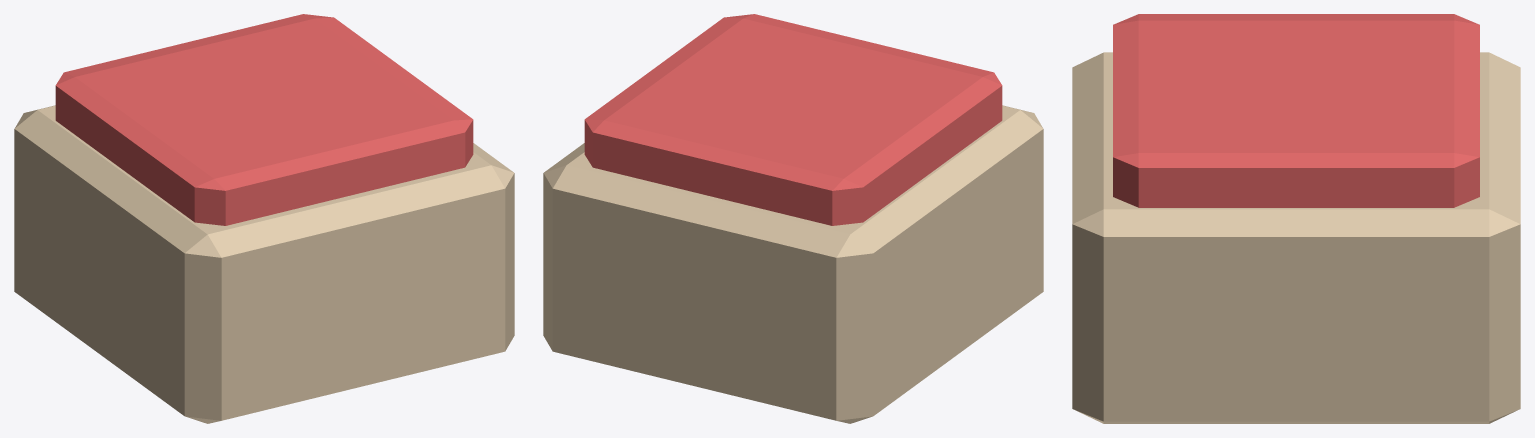
The model's file is b16_donut_in_open_paper_bag.glb.
The picture shows the model from 3 angles, left to right: view 1: azimuth 30°, elevation 25°; view 2: azimuth 150°, elevation 25°; view 3: azimuth 270°, elevation 25°; orthographic projection. The views are drawn at different scales.
Parts seen in each view (by area): view 1: b16_donut_in_open_paper_bag; view 2: b16_donut_in_open_paper_bag; view 3: b16_donut_in_open_paper_bag.
Part boxes in pixels (x1,y1,x2,y2): b16_donut_in_open_paper_bag: [14, 14, 514, 423]; b16_donut_in_open_paper_bag: [543, 14, 1043, 423]; b16_donut_in_open_paper_bag: [1072, 14, 1520, 423].
Bounding box in the file's own units: 0.13 × 0.086 × 0.135.
